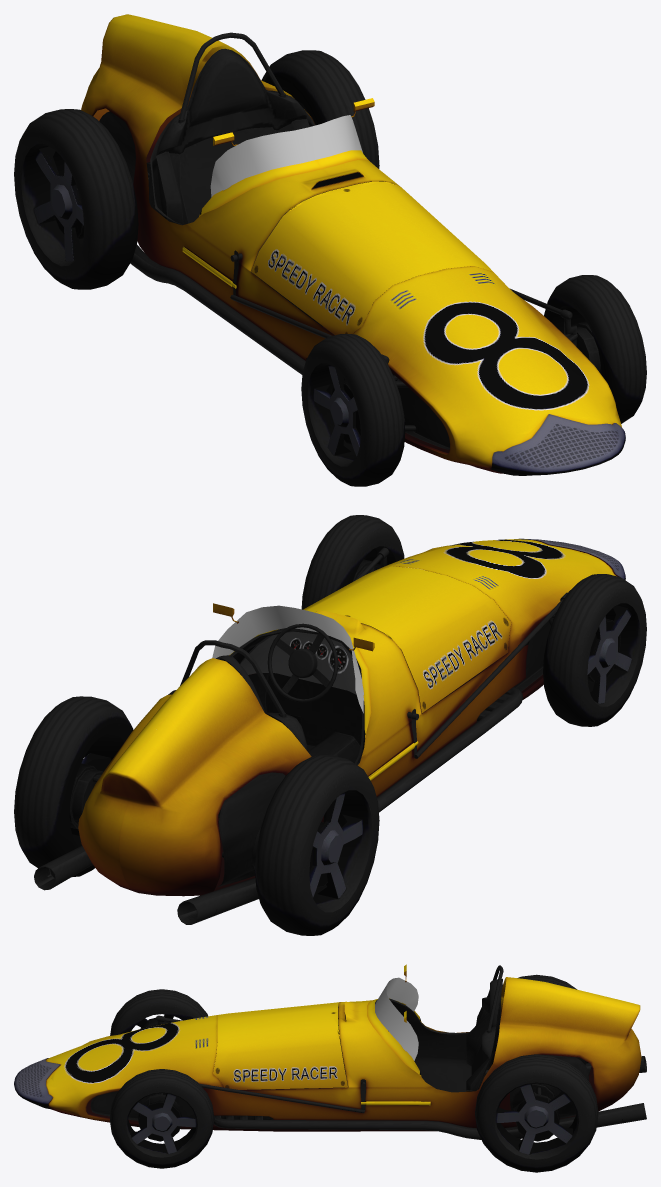
The model's file is Racing Car.glb.
3 renders of one model, top to bottom at view 1: azimuth 30°, elevation 25°; view 2: azimuth 150°, elevation 25°; view 3: azimuth 270°, elevation 25°, orthographic. The views are drawn at different scales.
Visible parts, largest first — view 1: BODY, Object168; view 2: BODY, Object168; view 3: BODY, Object168.
Boxes of the visible parts, bbox=[...] form: BODY: bbox=[54, 14, 625, 475]; Object168: bbox=[14, 50, 646, 486]; BODY: bbox=[34, 538, 625, 924]; Object168: bbox=[14, 515, 646, 935]; BODY: bbox=[14, 964, 646, 1141]; Object168: bbox=[110, 974, 598, 1172].
Bounding box in the file's own units: 1.7 × 1.33 × 4.78.
Materials: 3 (2 with a texture image).
